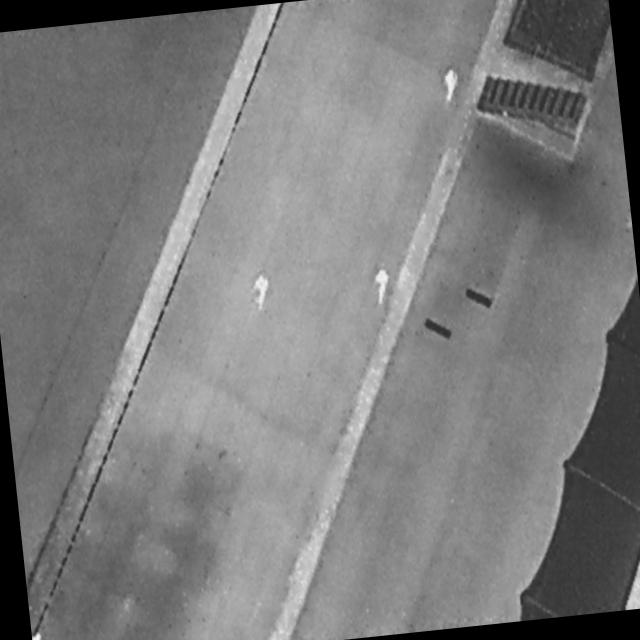person: (248, 267, 274, 313), (438, 61, 463, 107), (372, 264, 394, 308), (32, 630, 49, 640)
